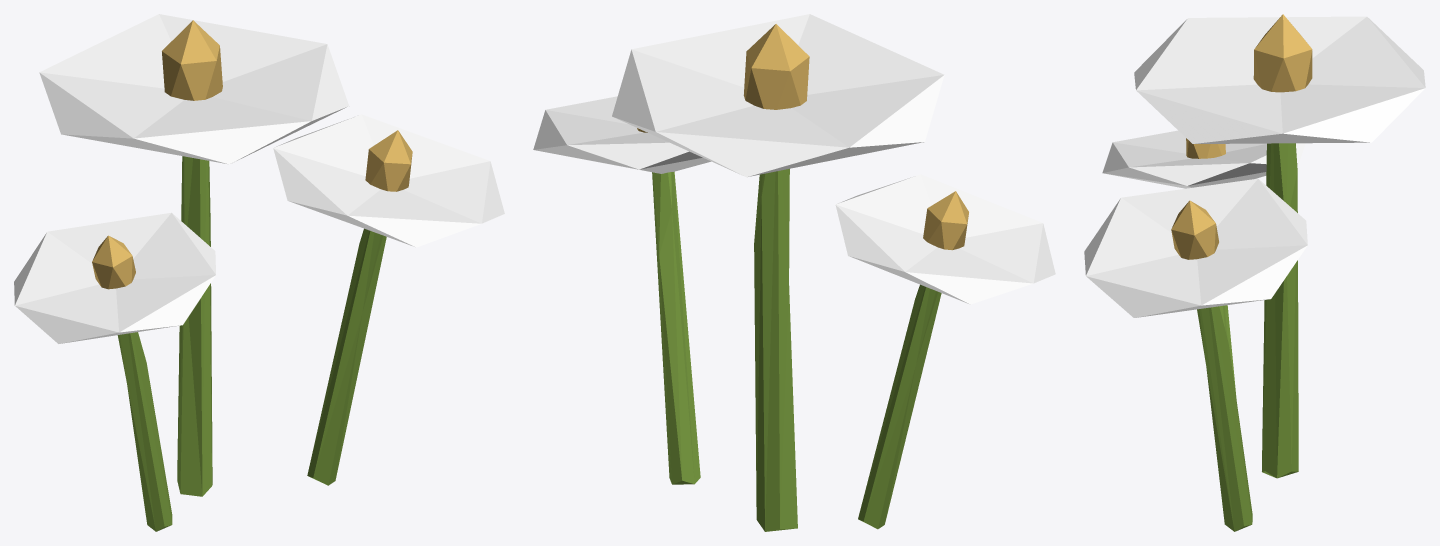
File: Flower_01.fbx
3 renders of one model, left to right at view 1: azimuth 30°, elevation 25°; view 2: azimuth 150°, elevation 25°; view 3: azimuth 270°, elevation 25°, orthographic. The views are drawn at different scales.
Visible parts, largest first — view 1: Flower_01; view 2: Flower_01; view 3: Flower_01.
Boxes of the visible parts, x1,y1,x2,y2 form: Flower_01: (14, 14, 504, 531); Flower_01: (533, 14, 1055, 531); Flower_01: (1084, 14, 1425, 531).
Size of the model in its own units: 14.83 by 14.39 by 9.64.
